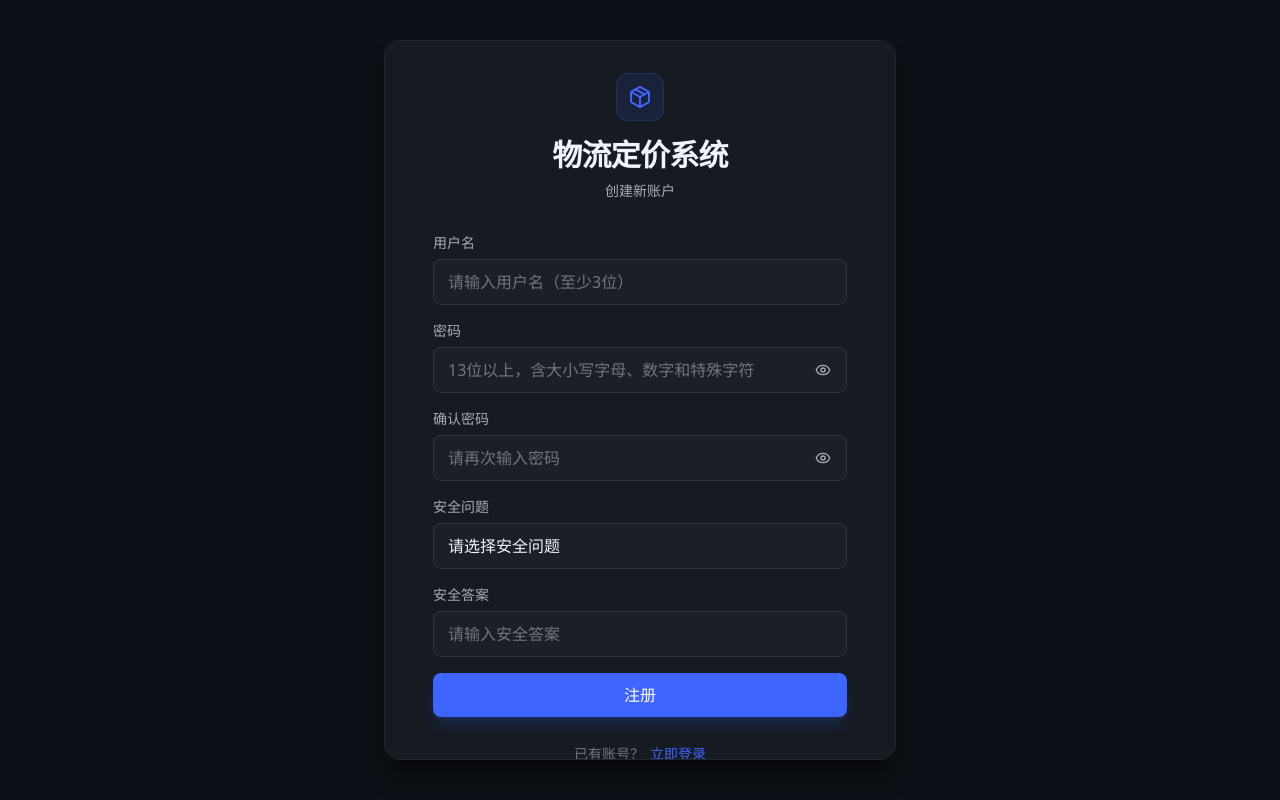
Test case: RegisterPage › shows "两次密码不一致" when passwords don't match
The width and height of the screenshot is (1280, 800).
Type "ValidPassword123!" into the password field with placeholder "13位以上，含大小写字母、数字和特殊字符" at x=640, y=370, box [433,347,847,393]
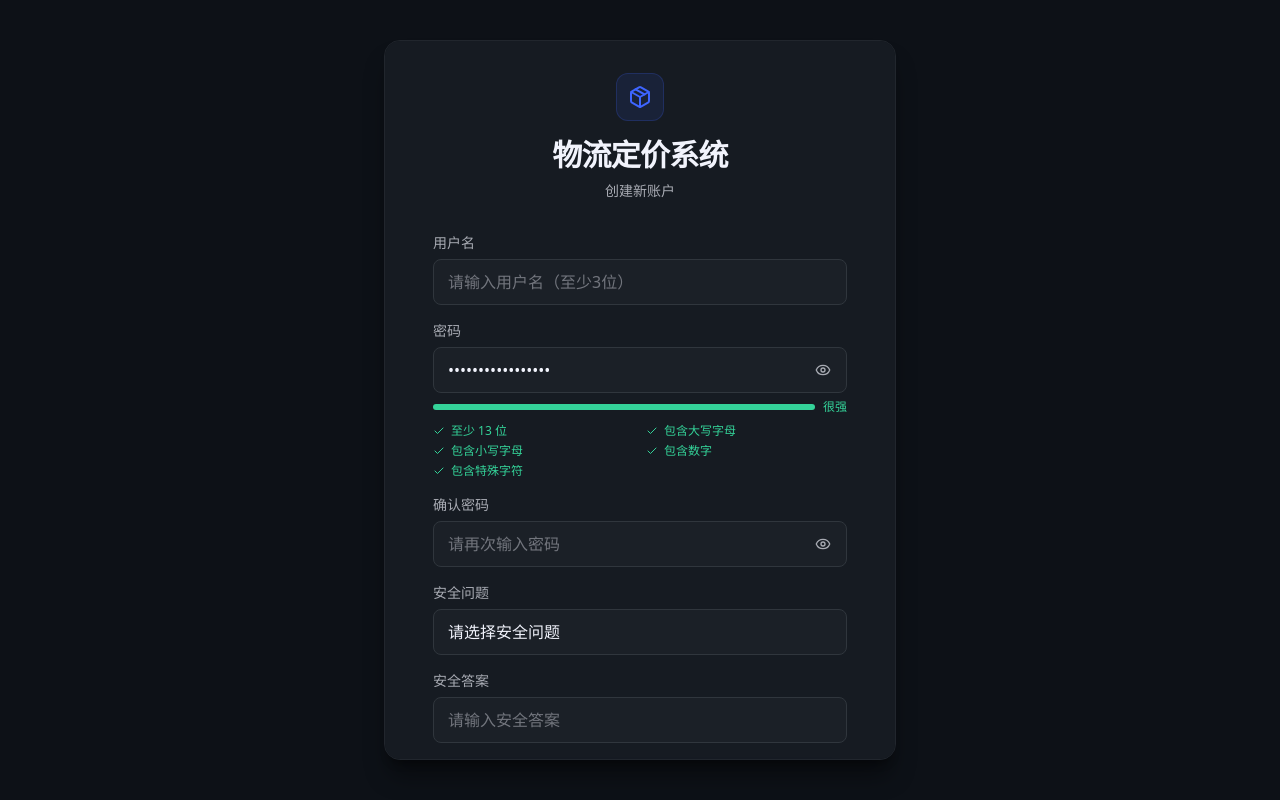
Type "ValidPassword123@" into the password field with placeholder "请再次输入密码" at x=640, y=544, box [433,521,847,567]
(page scrolled)
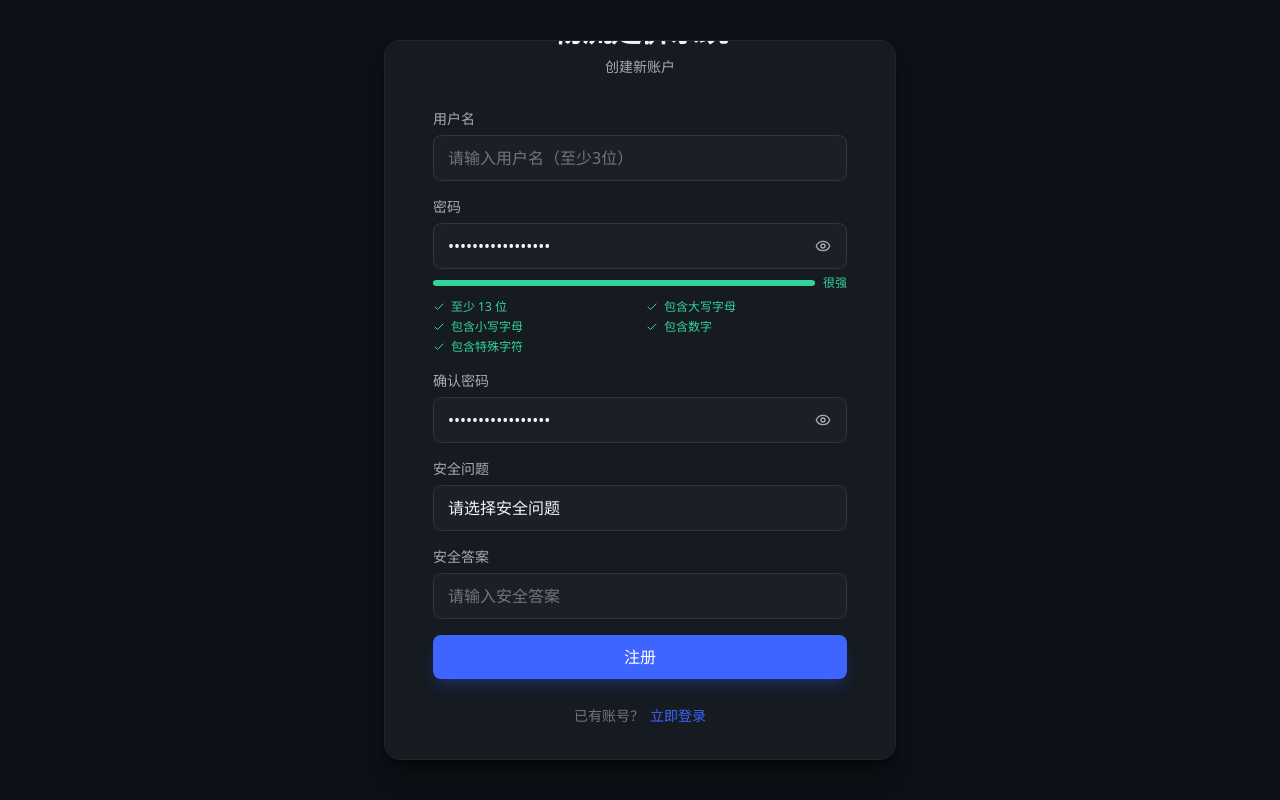
Click the button "注册" at x=640, y=657, box [433,635,847,679]
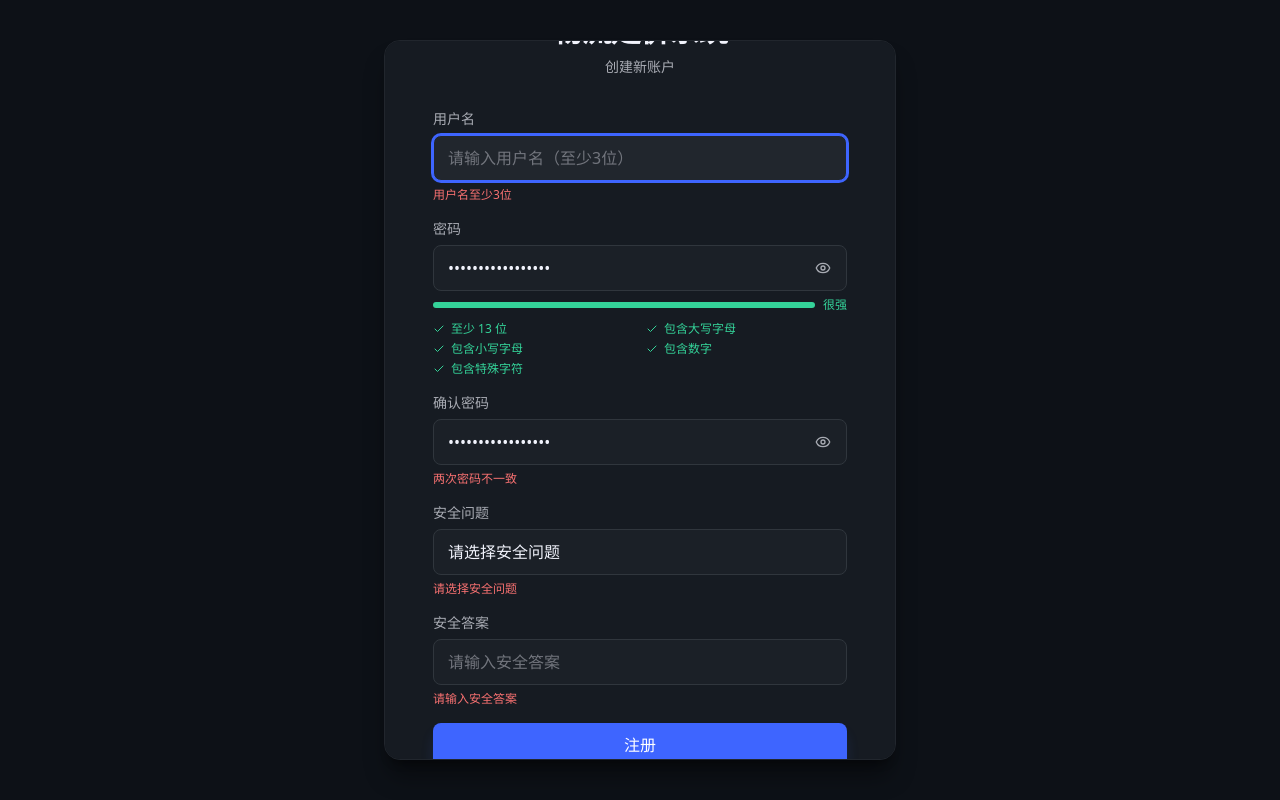
Check: the text "两次密码不一致" is shown, box [433,470,517,487]
